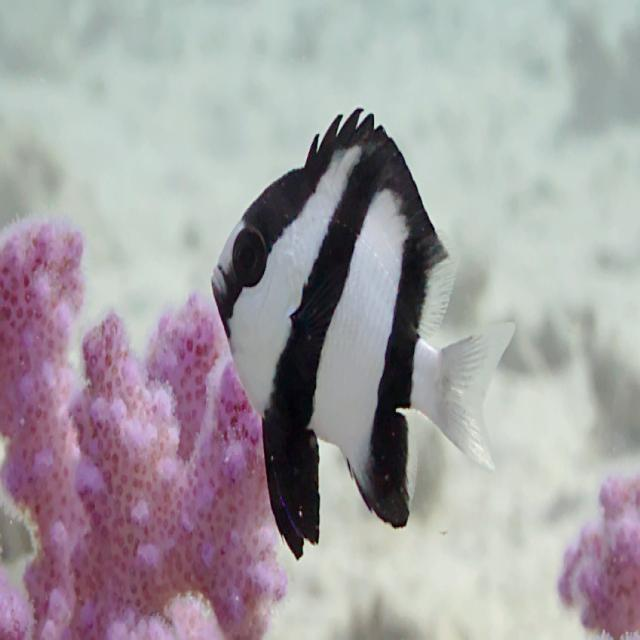Three_striped DasmselFish: (208, 102, 516, 565)
